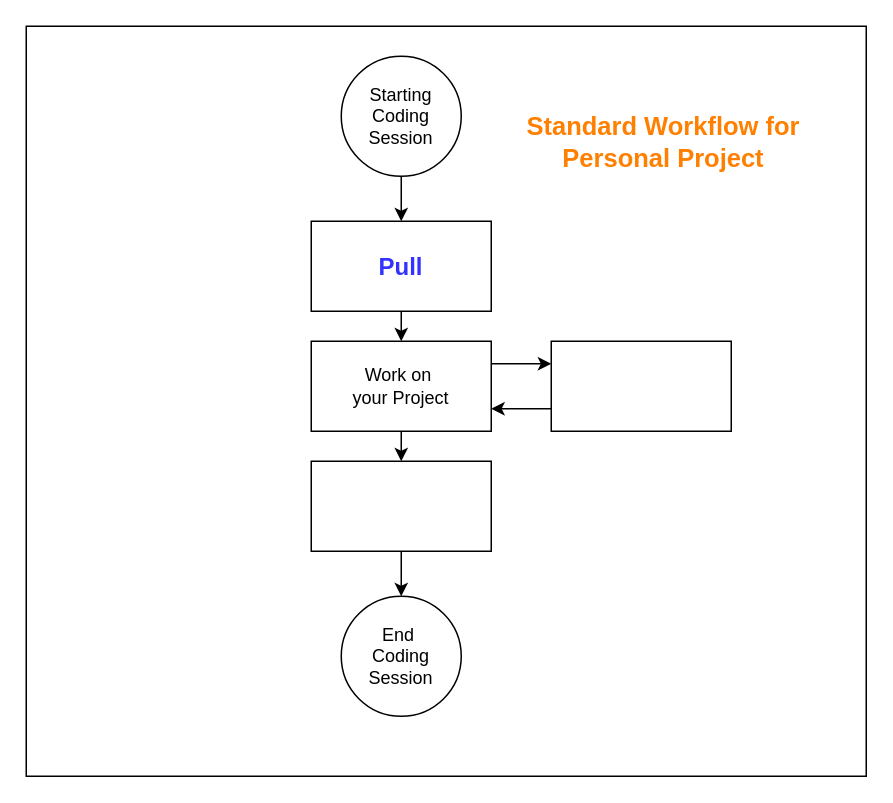
Image size: 893x803. Some labels were removed from this diagram. The shapes that lost their labels are listed below. From the top down, each one's centre as x and y in pixels, then its label:
[640,385]: Commit
[400,505]: Push
